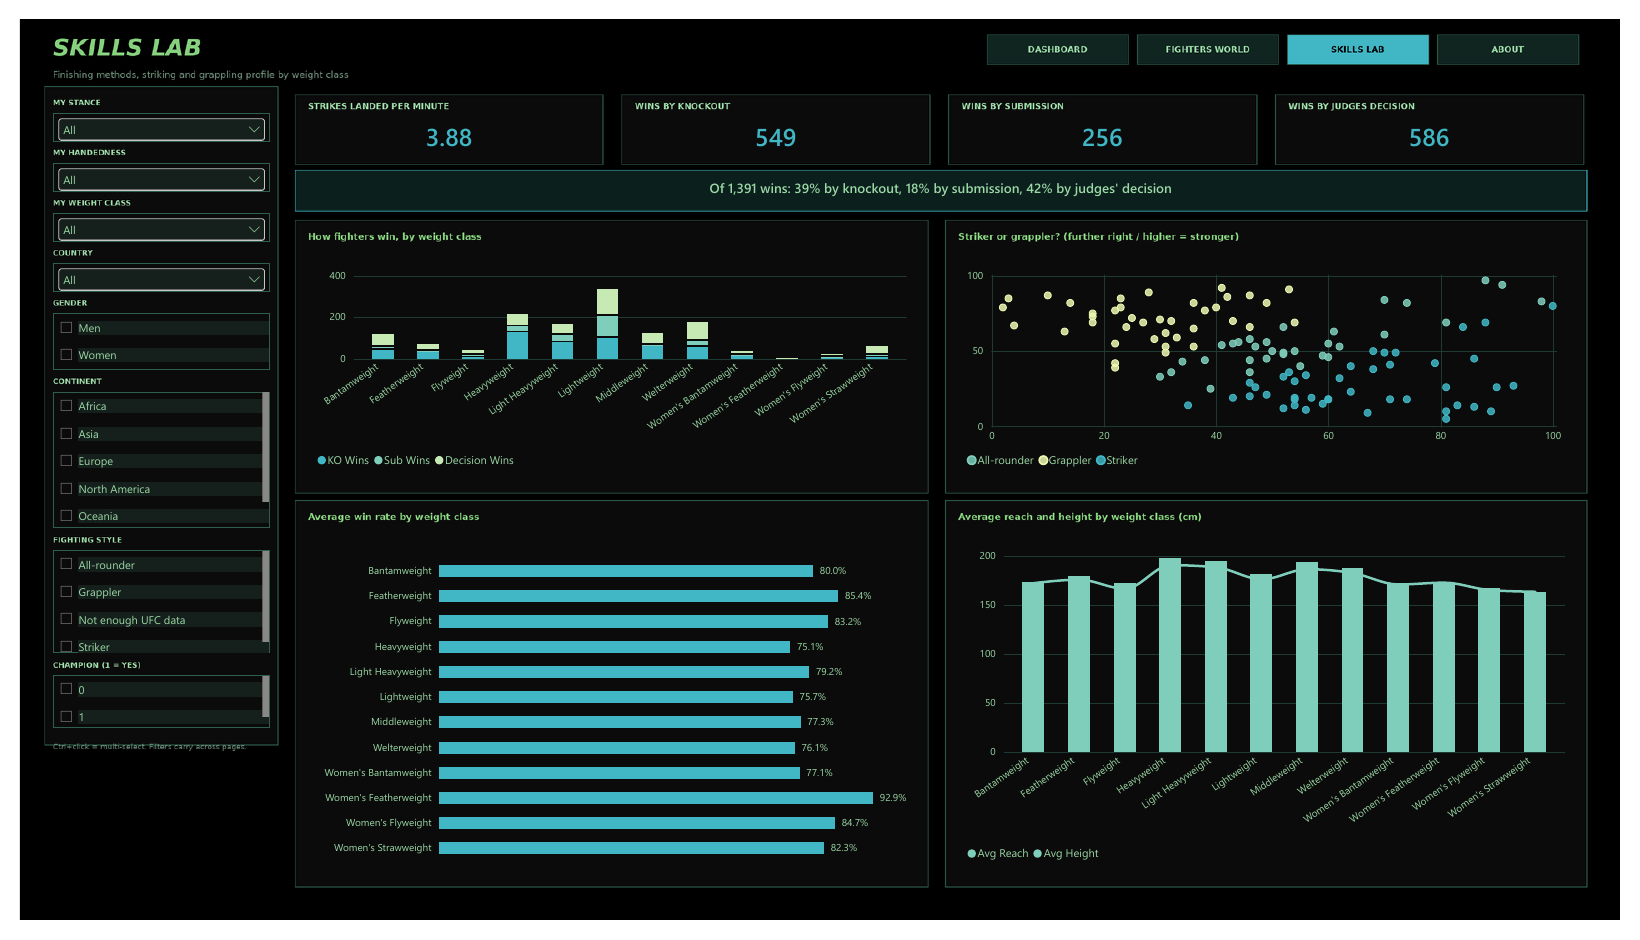

This screenshot's page, from the dashboard's own definition file:
{"tool":"powerbi","page":{"name":"Skills lab","canvas":[1920,1080],"ordinal":2},"visuals":[{"type":"card","fields":{"Values":["fighters.Insight Finish"]},"box":[340,180,1530,50],"z":1460},{"type":"card","fields":{"Values":["fighters.Avg SLpM"]},"box":[342,114,346,56],"z":1470},{"type":"card","fields":{"Values":["fighters.KO Wins"]},"box":[734,114,346,56],"z":1480},{"type":"card","fields":{"Values":["fighters.Sub Wins"]},"box":[1126,114,346,56],"z":1490},{"type":"card","fields":{"Values":["fighters.Decision Wins"]},"box":[1518,114,346,56],"z":1500},{"type":"columnChart","fields":{"Category":["fighters.weight_class"],"Y":["fighters.KO Wins","fighters.Sub Wins","fighters.Decision Wins"]},"box":[340,284,740,274],"z":1510},{"type":"scatterChart","fields":{"Category":["fighters.fighter_name"],"X":["fighters.Avg Striking Index"],"Y":["fighters.Avg Grappling Index"],"Series":["fighters.fighting_style"]},"box":[1120,284,750,274],"z":1520},{"type":"barChart","fields":{"Category":["fighters.weight_class"],"Y":["fighters.Avg Win Rate"]},"box":[340,620,740,410],"z":1530},{"type":"lineClusteredColumnComboChart","fields":{"Category":["fighters.weight_class"],"Y":["fighters.Avg Reach"],"Y2":["fighters.Avg Height"]},"box":[1120,620,750,410],"z":1540},{"type":"slicer","fields":{"Values":["fighters.stance"]},"box":[40,112,260,34],"z":7037},{"type":"slicer","fields":{"Values":["fighters.hand"]},"box":[40,172,260,34],"z":7038},{"type":"slicer","fields":{"Values":["fighters.weight_class"]},"box":[40,232,260,34],"z":7039},{"type":"slicer","fields":{"Values":["fighters.country"]},"box":[40,292,260,34],"z":7040},{"type":"slicer","fields":{"Values":["fighters.gender"]},"box":[40,352,260,68],"z":7041},{"type":"slicer","fields":{"Values":["fighters.continent"]},"box":[40,446,260,164],"z":7042},{"type":"slicer","fields":{"Values":["fighters.fighting_style"]},"box":[40,636,260,124],"z":7043},{"type":"slicer","fields":{"Values":["fighters.is_champion"]},"box":[40,786,260,64],"z":7044},{"type":"actionButton","box":[1160,18,170,36],"z":9054},{"type":"actionButton","box":[1340,18,170,36],"z":9055},{"type":"actionButton","box":[1520,18,170,36],"z":9056},{"type":"actionButton","box":[1700,18,170,36],"z":9057}]}

Visuals, with their boxes in screenshot pixels (x1, y1, x2, y2), scaled from the page's 1920x1080 canvas onto the 1640x940 screenshot:
card - fighters.Insight Finish: <box>290,157,1597,200</box>
card - fighters.Avg SLpM: <box>292,99,588,148</box>
card - fighters.KO Wins: <box>627,99,922,148</box>
card - fighters.Sub Wins: <box>962,99,1257,148</box>
card - fighters.Decision Wins: <box>1297,99,1592,148</box>
columnChart - fighters.weight_class x fighters.KO Wins: <box>290,247,922,486</box>
scatterChart - fighters.fighter_name x fighters.Avg Striking Index: <box>957,247,1597,486</box>
barChart - fighters.weight_class x fighters.Avg Win Rate: <box>290,540,922,896</box>
lineClusteredColumnComboChart - fighters.weight_class x fighters.Avg Reach: <box>957,540,1597,896</box>
slicer - fighters.stance: <box>34,97,256,127</box>
slicer - fighters.hand: <box>34,150,256,179</box>
slicer - fighters.weight_class: <box>34,202,256,232</box>
slicer - fighters.country: <box>34,254,256,284</box>
slicer - fighters.gender: <box>34,306,256,366</box>
slicer - fighters.continent: <box>34,388,256,531</box>
slicer - fighters.fighting_style: <box>34,554,256,661</box>
slicer - fighters.is_champion: <box>34,684,256,740</box>
actionButton: <box>991,16,1136,47</box>
actionButton: <box>1145,16,1290,47</box>
actionButton: <box>1298,16,1444,47</box>
actionButton: <box>1452,16,1597,47</box>
